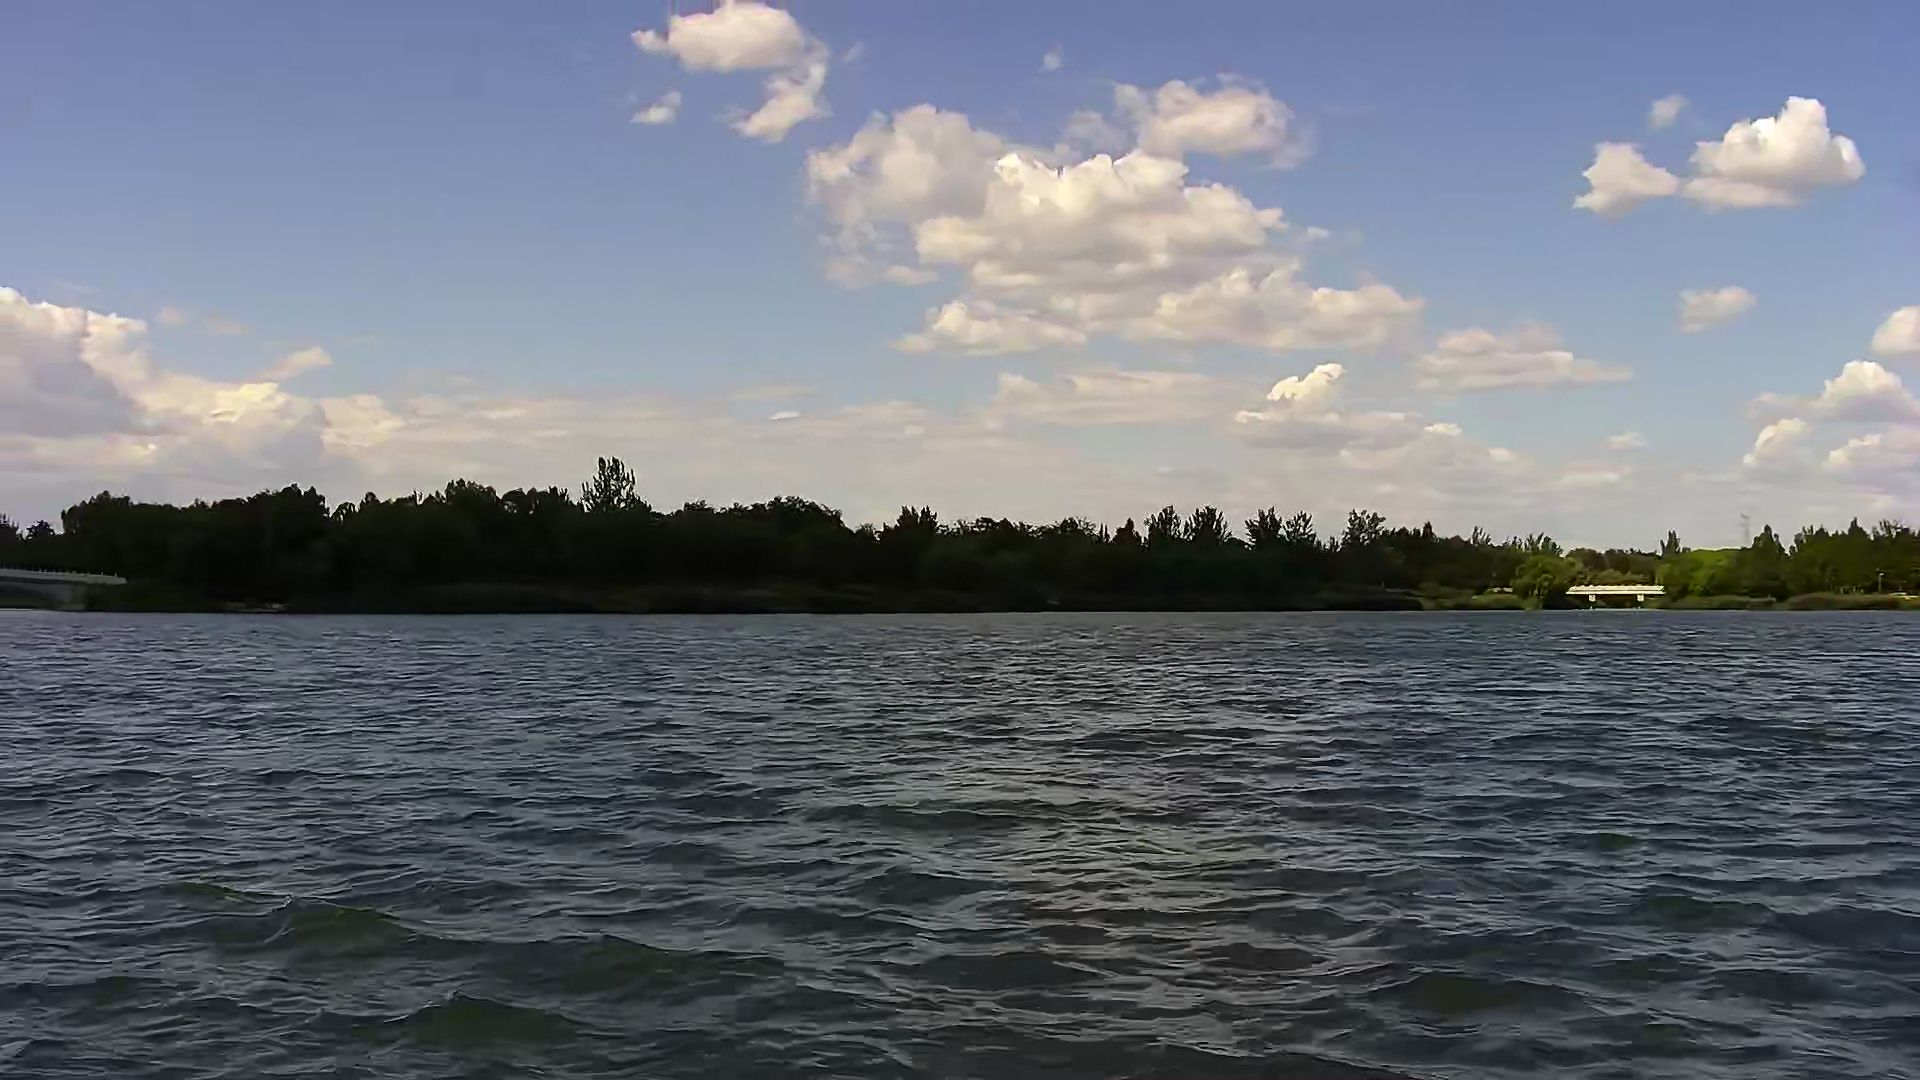bridge: (7, 553, 135, 615), (1549, 570, 1667, 615)
